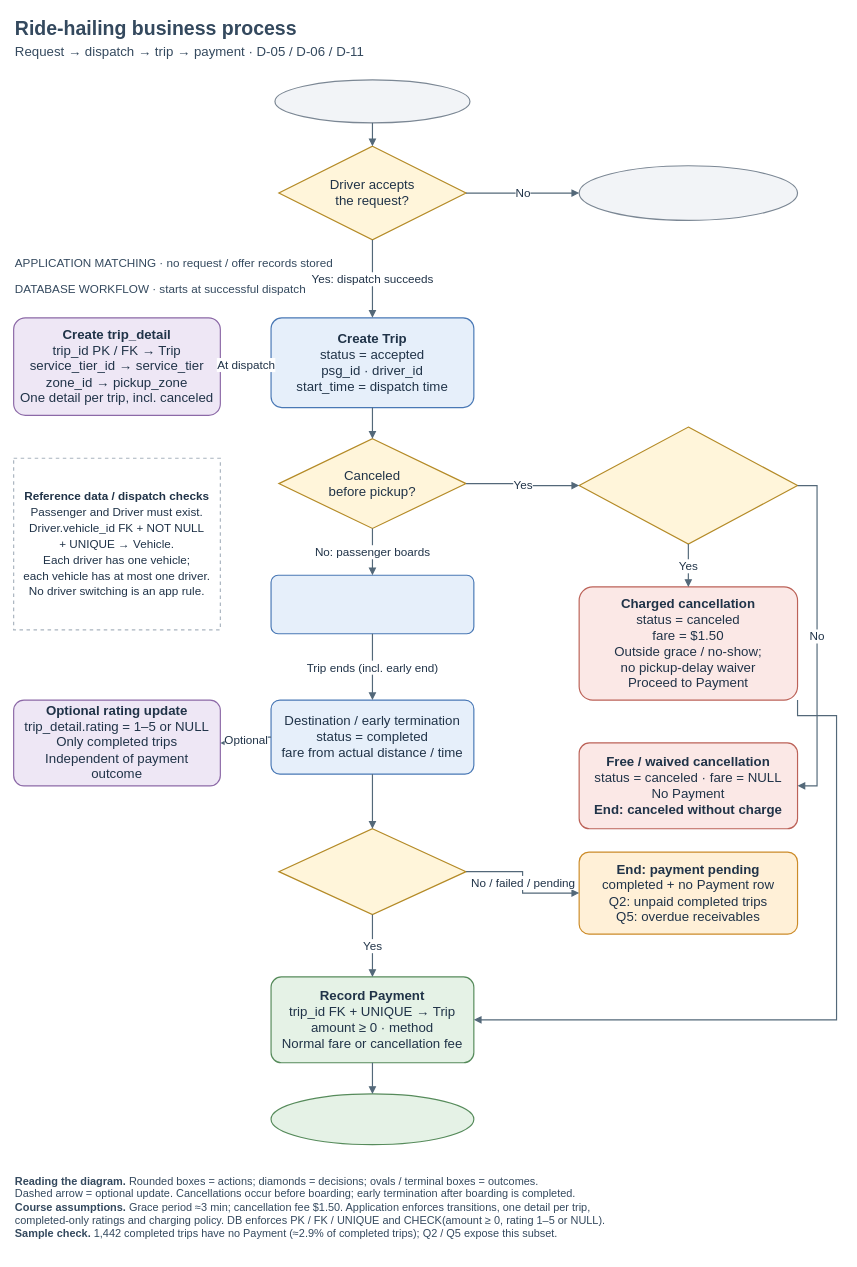
This 857x1267 diagram has some shape labels left out. Here are the shapes that lost their labels. From the top down, the centre of each, then its label:
(x=372, y=101): Passenger requests a ride
(x=688, y=193): No driver / request withdrawn End: no Trip row
(x=688, y=485): Cancellation fee applies?
(x=372, y=604): Passenger boards status = en_route
(x=372, y=871): Payment successful?
(x=372, y=1119): End: charge recorded At most one Payment per Trip
